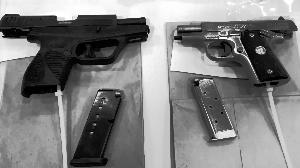handgun: (2, 6, 154, 97), (172, 6, 298, 92), (67, 87, 127, 164), (195, 74, 216, 146)
